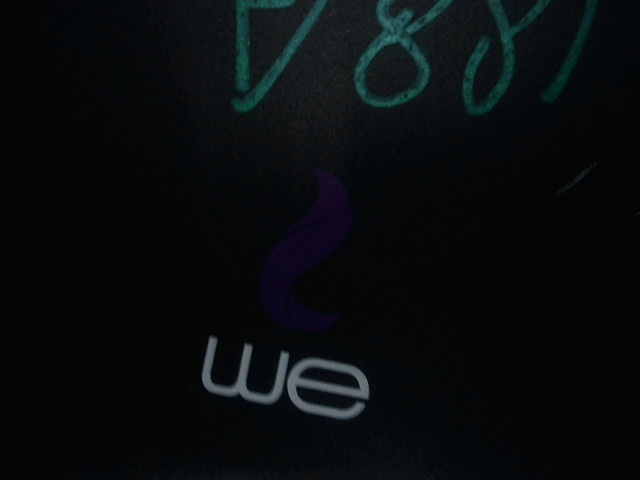AT_We: (195, 159, 382, 421)
